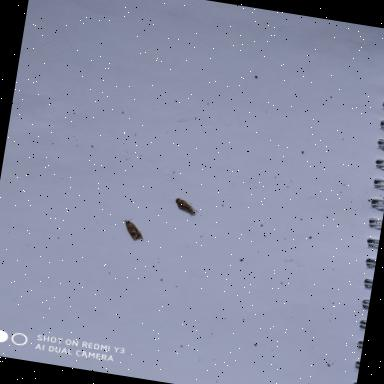pbw: (118, 216, 148, 242), (171, 195, 200, 218)
